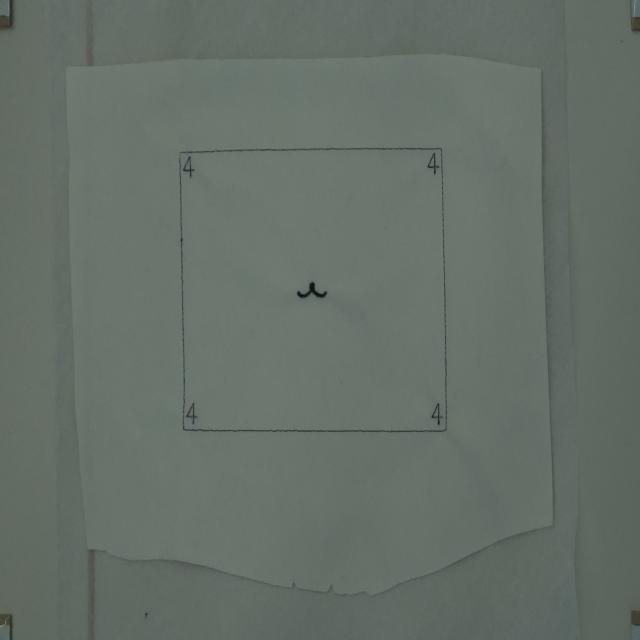4 -: (182, 154, 199, 184), (429, 398, 445, 428), (186, 398, 201, 428), (427, 151, 438, 181)
